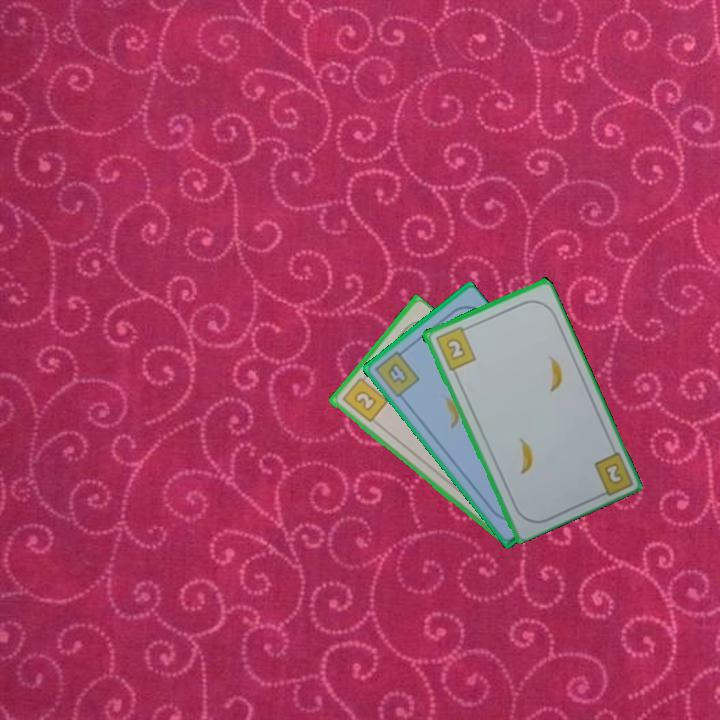2b: (338, 370, 390, 425), (432, 322, 478, 373), (600, 459, 626, 487)
4b: (371, 345, 422, 400)
